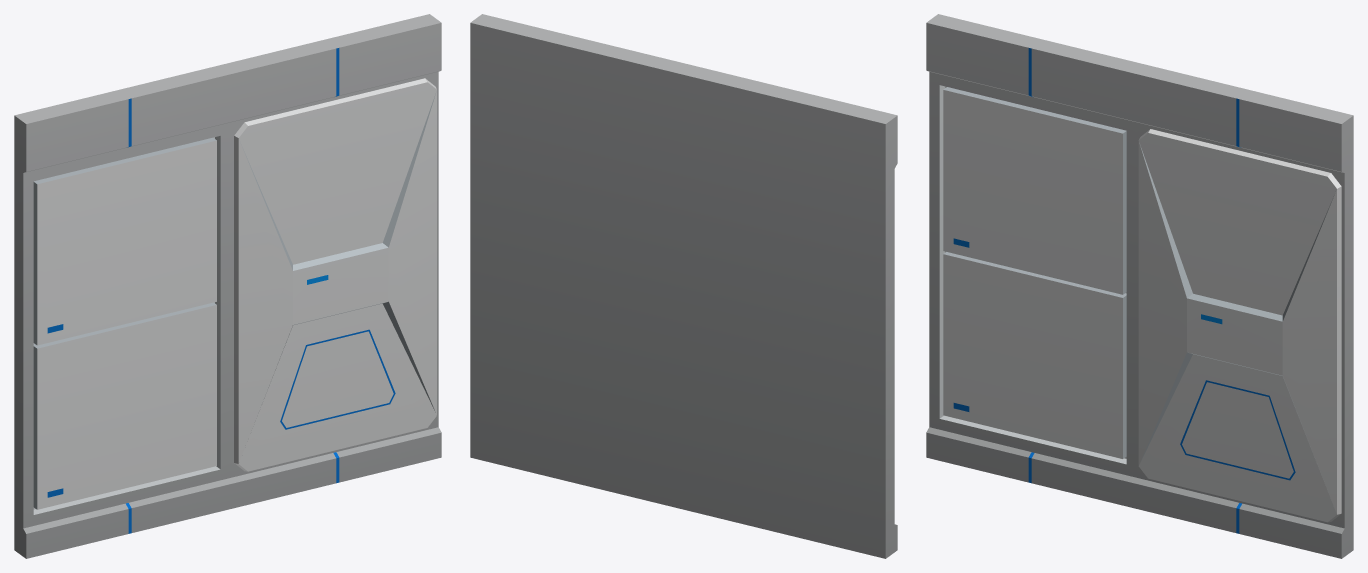
The model's file is Wall_type_A_011.fbx.
3 views of the same model, side by side, from view 1: azimuth 30°, elevation 25°; view 2: azimuth 150°, elevation 25°; view 3: azimuth 330°, elevation 25° (orthographic).
Parts seen in each view (by area): view 1: Wall_type_A_011; view 2: Wall_type_A_011; view 3: Wall_type_A_011.
Part boxes in pixels (x1,y1,x2,y2): Wall_type_A_011: (14, 14, 441, 558); Wall_type_A_011: (470, 14, 897, 558); Wall_type_A_011: (926, 14, 1353, 558).
Bounding box in the file's own units: 400 × 25 × 400.
